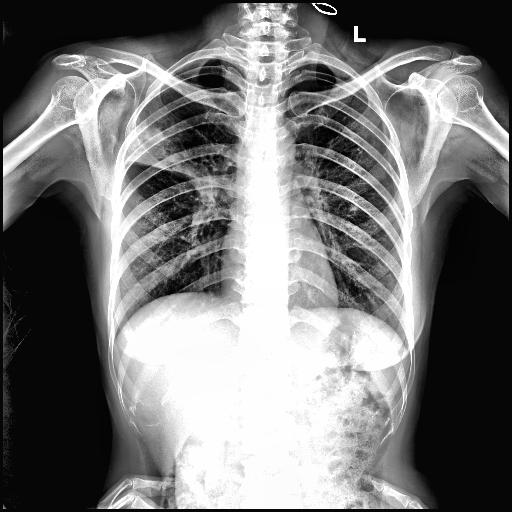4- Consolidation: (121, 120, 226, 188), (123, 120, 217, 184), (130, 121, 218, 183)
7- Lung Opacity: (121, 120, 226, 188), (130, 121, 218, 183)
